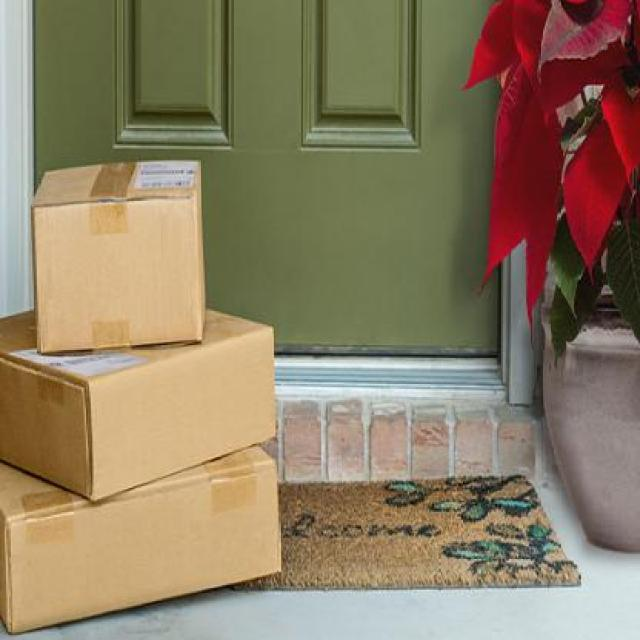box: (0, 290, 292, 506), (0, 427, 289, 640), (28, 152, 222, 376)
